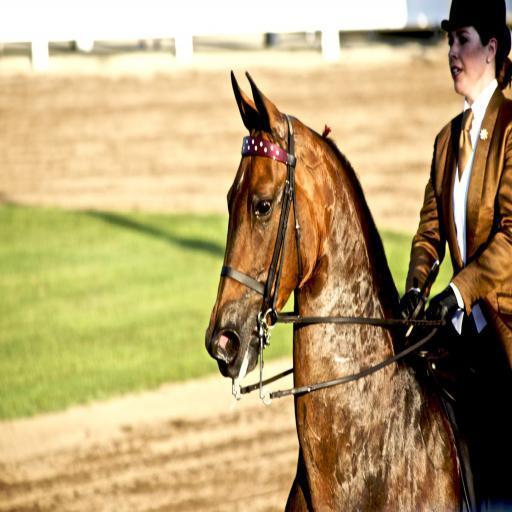horse: (203, 66, 512, 512)
